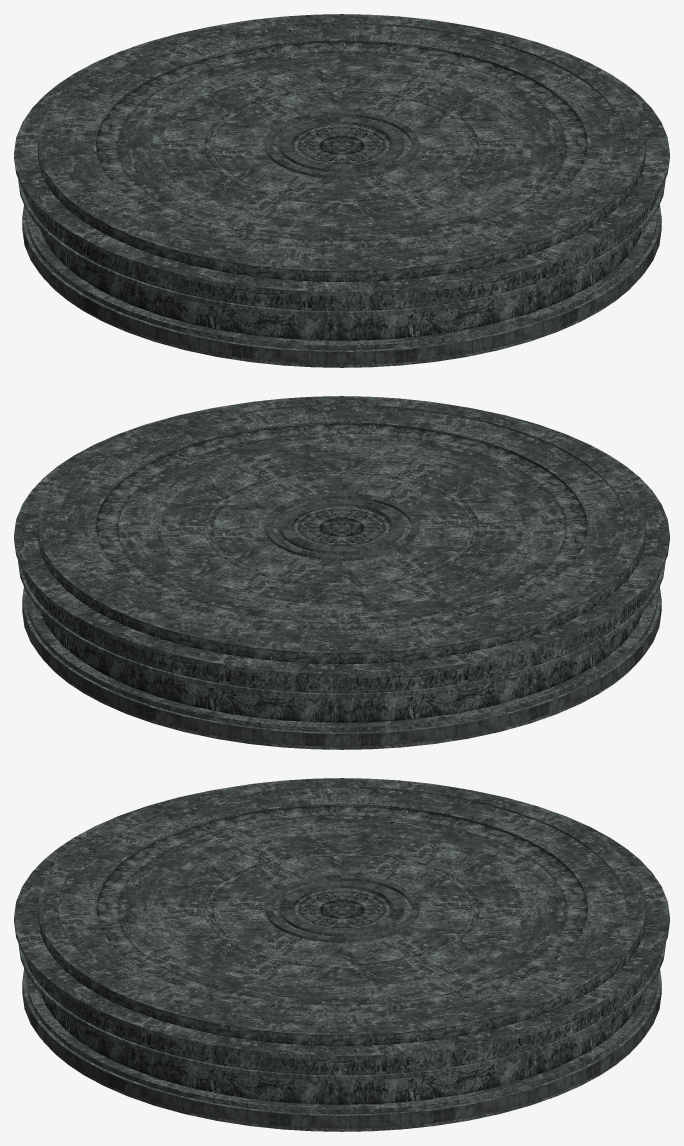
Rendered from mg_9_plate_6.fbx.
3 renders of one model, top to bottom at view 1: azimuth 30°, elevation 25°; view 2: azimuth 150°, elevation 25°; view 3: azimuth 270°, elevation 25°, orthographic.
Visible parts, largest first — view 1: mg_9_plate_6; view 2: mg_9_plate_6; view 3: mg_9_plate_6.
Part boxes in pixels (x1,y1,x2,y2): mg_9_plate_6: [14, 14, 669, 367]; mg_9_plate_6: [14, 396, 669, 749]; mg_9_plate_6: [14, 778, 669, 1131].
Size of the model in its own units: 2021 by 317 by 2021.
